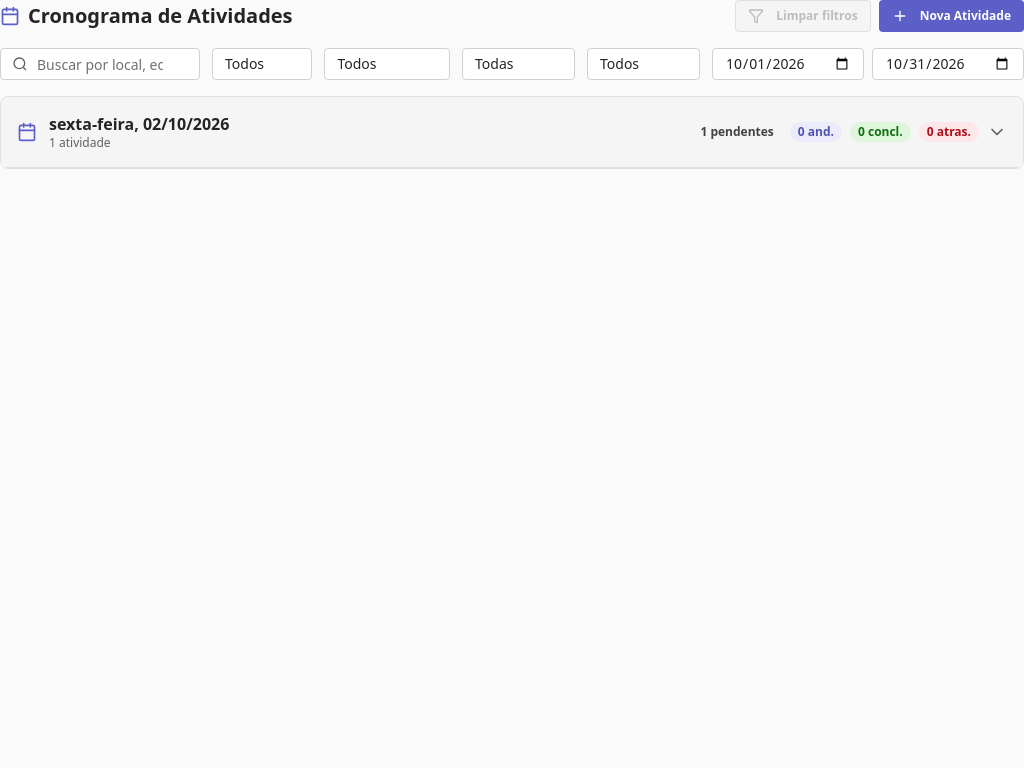
Test case: CronogramaView — validação do formulário › bloqueia o envio sem local selecionado
Click the 3rd button at (139, 124), box [1, 97, 1023, 168]
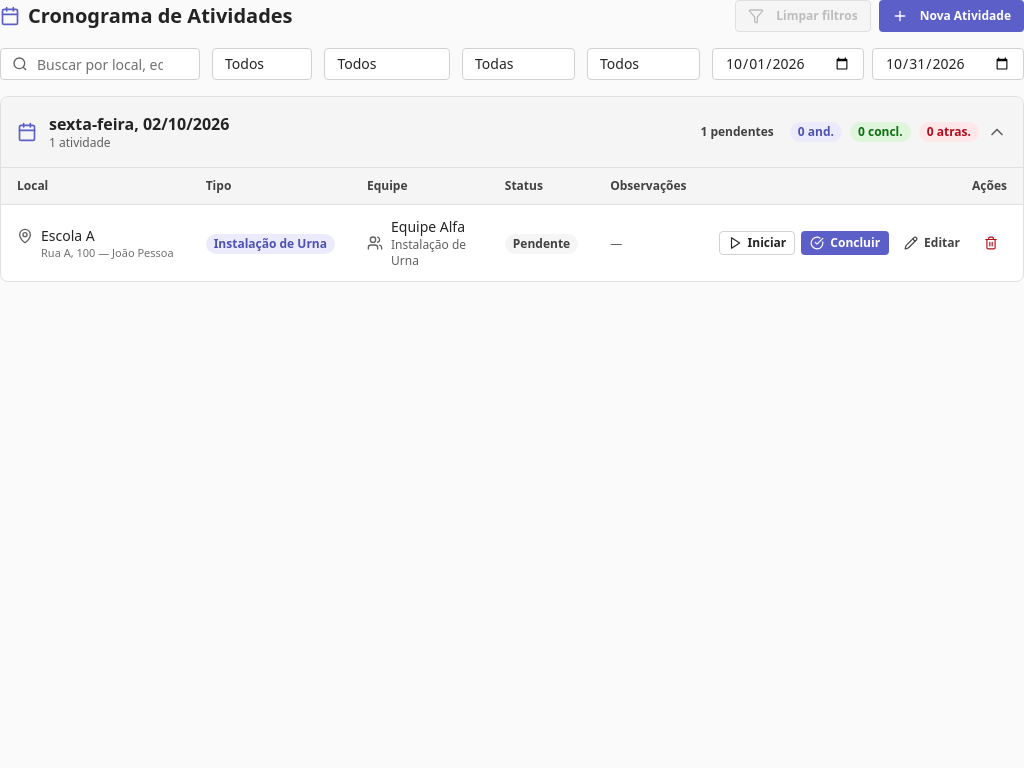
Click the button "Editar" at (932, 243), box [895, 231, 969, 255]
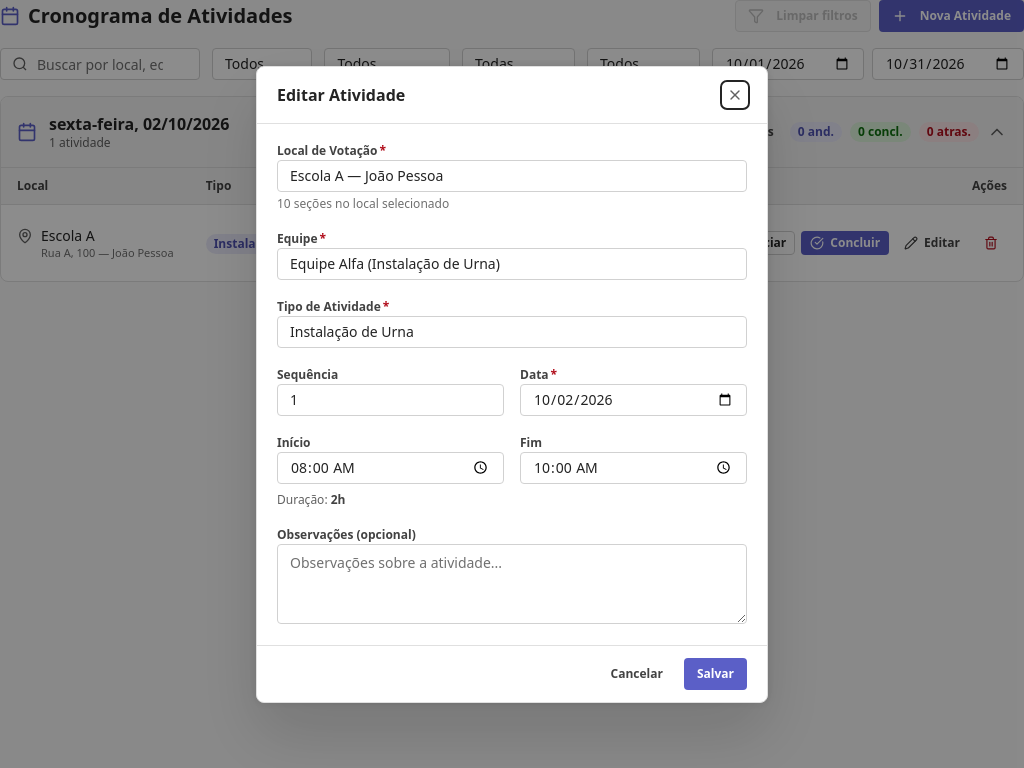
Select "Selecione o local" in the dropdown labelled "Local de Votação*" at (512, 176), box [277, 160, 747, 192]
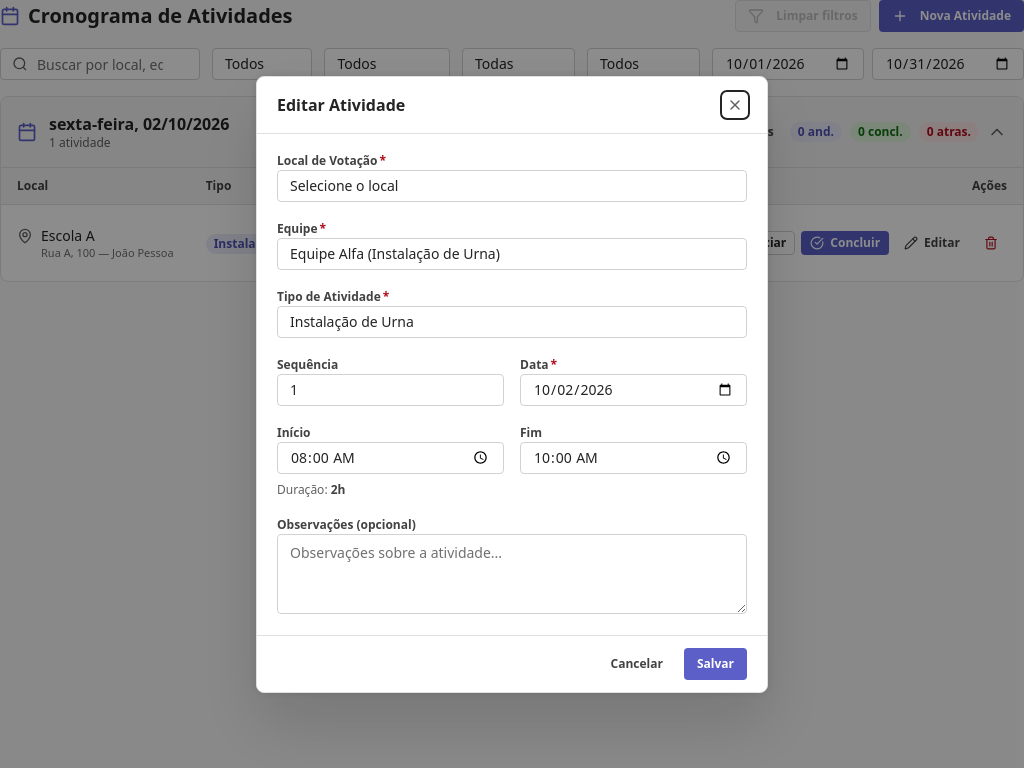
Click the button "Salvar" at (716, 664), box [684, 648, 747, 680]
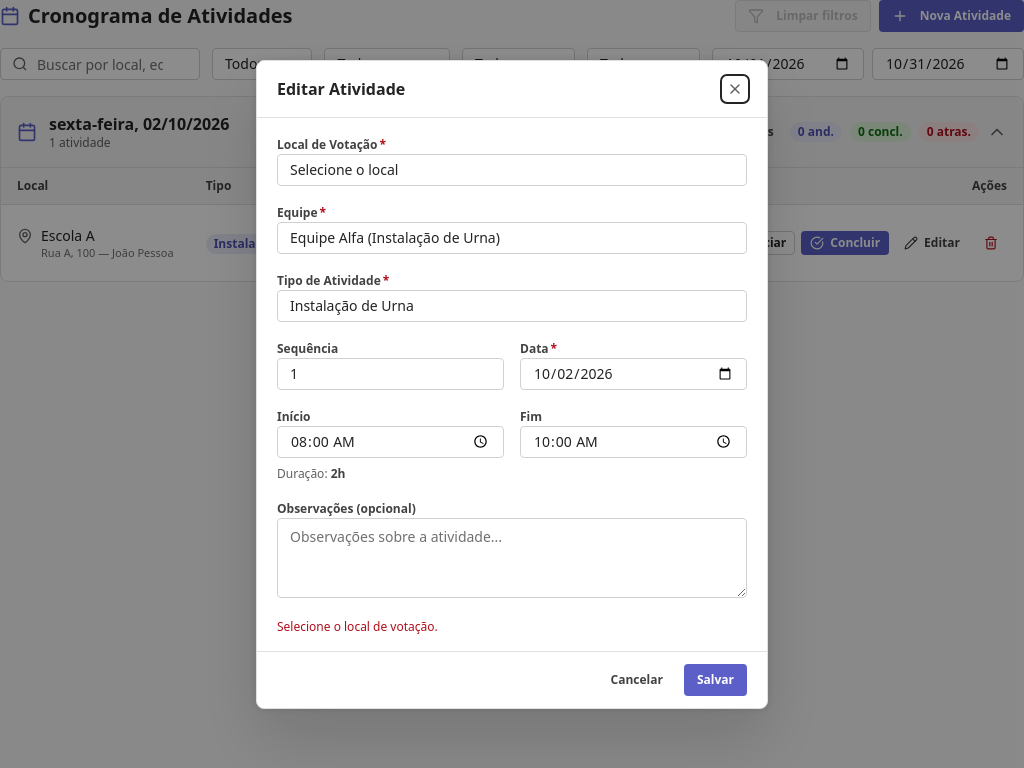
Expected: the text "Selecione o local de votação." is shown, [277, 618, 438, 634]
